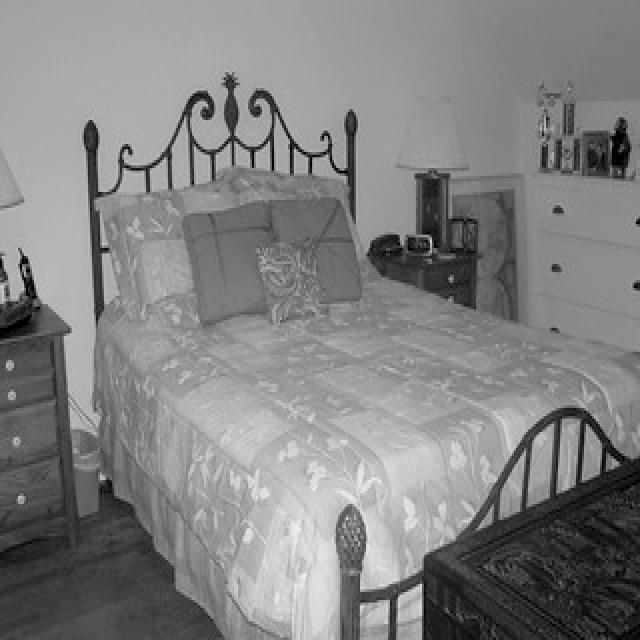bed: (75, 79, 621, 589)
